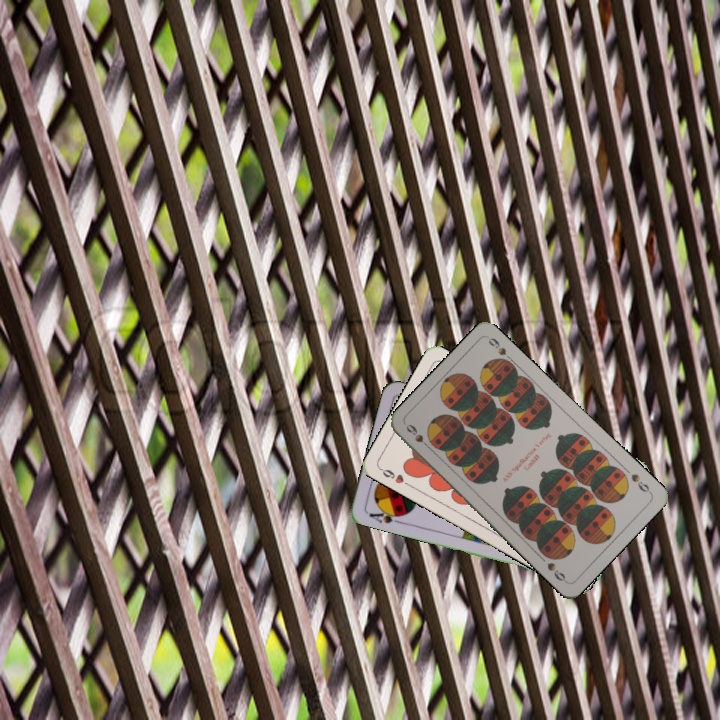H9: (376, 464, 413, 489)
S9: (402, 420, 434, 453), (627, 469, 654, 496)
SA: (365, 504, 405, 526)
